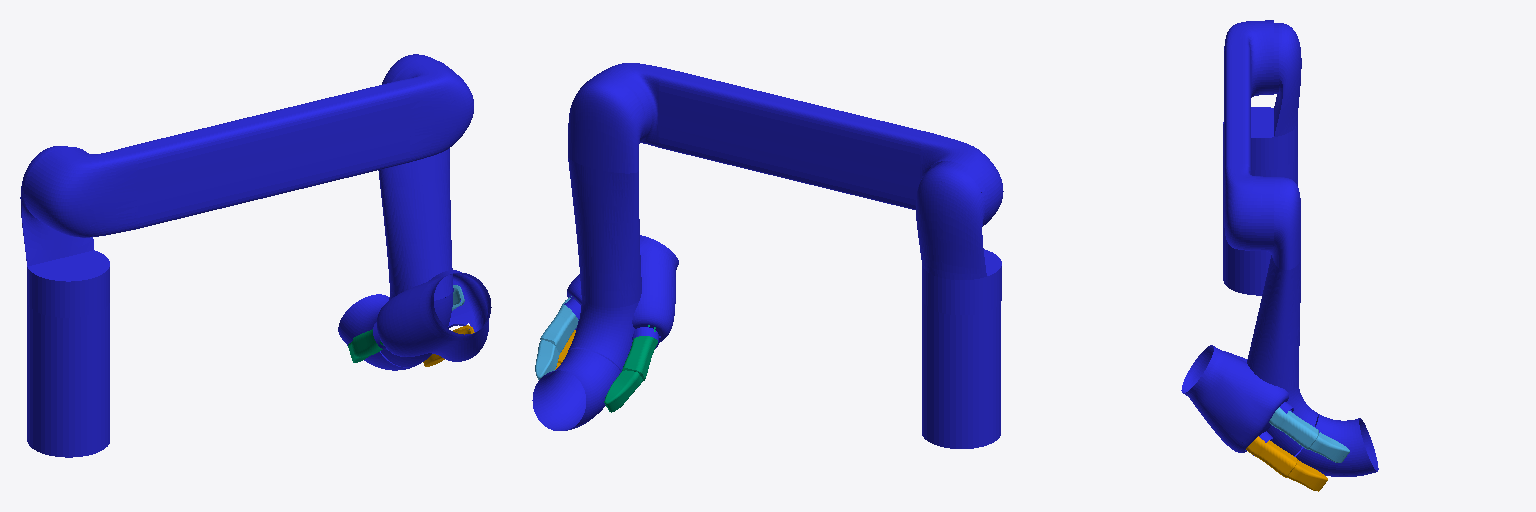
robot.urdf — jaco:
<?xml version="1.0" ?>
<!-- =================================================================================== -->
<!-- |    This document was autogenerated by xacro from jaco.urdf.xacro                | -->
<!-- |    EDITING THIS FILE BY HAND IS NOT RECOMMENDED                                 | -->
<!-- =================================================================================== -->
<robot name="jaco" xmlns:controller="http://playerstage.sourceforge.net/gazebo/xmlschema/#controller" xmlns:interface="http://playerstage.sourceforge.net/gazebo/xmlschema/#interface" xmlns:sensor="http://playerstage.sourceforge.net/gazebo/xmlschema/#sensor" xmlns:xacro="http://ros.org/wiki/xacro">
  <gazebo>
    <plugin filename="libgazebo_ros_controller_manager.so" name="gazebo_ros_controller_manager">
      <alwaysOn>true</alwaysOn>
      <updateRate>1000.0</updateRate>
      <robotParam>robot_description</robotParam>
    </plugin>
  </gazebo>
  <transmission name="jaco_1_trans" type="pr2_mechanism_model/SimpleTransmission">
    <actuator name="jaco_1_motor"/>
    <joint name="jaco_joint_1"/>
    <mechanicalReduction>1</mechanicalReduction>
    <motorTorqueConstant>1</motorTorqueConstant>
  </transmission>
  <transmission name="jaco_2_trans" type="pr2_mechanism_model/SimpleTransmission">
    <actuator name="jaco_2_motor"/>
    <joint name="jaco_joint_2"/>
    <mechanicalReduction>1</mechanicalReduction>
    <motorTorqueConstant>1</motorTorqueConstant>
  </transmission>
  <transmission name="jaco_3_trans" type="pr2_mechanism_model/SimpleTransmission">
    <actuator name="jaco_3_motor"/>
    <joint name="jaco_joint_3"/>
    <mechanicalReduction>1</mechanicalReduction>
    <motorTorqueConstant>1</motorTorqueConstant>
  </transmission>
  <transmission name="jaco_4_trans" type="pr2_mechanism_model/SimpleTransmission">
    <actuator name="jaco_4_motor"/>
    <joint name="jaco_joint_4"/>
    <mechanicalReduction>1</mechanicalReduction>
    <motorTorqueConstant>1</motorTorqueConstant>
  </transmission>
  <transmission name="jaco_5_trans" type="pr2_mechanism_model/SimpleTransmission">
    <actuator name="jaco_5_motor"/>
    <joint name="jaco_joint_5"/>
    <mechanicalReduction>1</mechanicalReduction>
    <motorTorqueConstant>1</motorTorqueConstant>
  </transmission>
  <transmission name="jaco_6_trans" type="pr2_mechanism_model/SimpleTransmission">
    <actuator name="jaco_6_motor"/>
    <joint name="jaco_joint_6"/>
    <mechanicalReduction>1</mechanicalReduction>
    <motorTorqueConstant>1</motorTorqueConstant>
  </transmission>
  <transmission name="jaco_finger_1_trans" type="pr2_mechanism_model/SimpleTransmission">
    <actuator name="jaco_finger_1_motor"/>
    <joint name="jaco_finger_joint_1"/>
    <mechanicalReduction>1</mechanicalReduction>
    <motorTorqueConstant>1</motorTorqueConstant>
  </transmission>
  <transmission name="jaco_finger_2_trans" type="pr2_mechanism_model/SimpleTransmission">
    <actuator name="jaco_finger_2_motor"/>
    <joint name="jaco_finger_joint_2"/>
    <mechanicalReduction>1</mechanicalReduction>
    <motorTorqueConstant>1</motorTorqueConstant>
  </transmission>
  <transmission name="jaco_finger_3_trans" type="pr2_mechanism_model/SimpleTransmission">
    <actuator name="jaco_finger_3_motor"/>
    <joint name="jaco_finger_joint_3"/>
    <mechanicalReduction>1</mechanicalReduction>
    <motorTorqueConstant>1</motorTorqueConstant>
  </transmission>
  <material name="JacoGrey">
    <color rgba="0.2 0.2 0.9 1.0"/>
  </material>
  <!--
	<link name="world"/>
	<joint name="base_block_joint" type="fixed">
		<parent link="world" />
		<origin xyz="0 0 1" rpy="0 0 0" />
		<child link="jaco_base_link" />
	</joint> 
 -->
  <!-- The base joint & link -->
  <link name="jaco_base_link">
    <inertial>
      <mass value="1"/>
      <!--origin xyz="0 0 -0.0525" rpy="0 0 0"/-->
      <origin rpy="0 0 0" xyz="0 0 0.0"/>
      <inertia ixx="1" ixy="0" ixz="0" iyy="1" iyz="0" izz="1"/>
    </inertial>
    <visual>
      <material name="JacoGrey"/>
      <!--origin xyz="0 0 -0.0525" rpy="0 0 0"/-->
      <geometry>
        <mesh filename="package://jaco_description/meshes/joint_1.stl" scale="0.001 0.001 0.001"/>
      </geometry>
    </visual>
    <collision>
      <!--origin xyz="0 0 -0.0525" rpy="0 0 0"/-->
      <geometry>
        <mesh filename="package://jaco_description/meshes/joint_1.stl" scale="0.001 0.001 0.001"/>
      </geometry>
    </collision>
  </link>
  <gazebo reference="jaco_base_link">
    <material>Gazebo/Yellow</material>
    <turnGravityOff>true</turnGravityOff>
  </gazebo>
  <!-- First revolute joint & link -->
  <joint name="jaco_joint_1" type="revolute">
    <!--origin xyz="0 0 0.2102" rpy="0 0 0"/-->
    <origin rpy="0 0 0" xyz="0 0 0.2725"/>
    <axis rpy="0 0 0" xyz="0 0 -1"/>
    <parent link="jaco_base_link"/>
    <child link="jaco_link_1"/>
    <limit effort="30" lower="-3.1415926535897931" upper="3.1415926535897931" velocity="5"/>
  </joint>
  <link name="jaco_link_1">
    <inertial>
      <mass value="1"/>
      <inertia ixx="1" ixy="0" ixz="0" iyy="1" iyz="0" izz="1"/>
      <origin/>
    </inertial>
    <visual>
      <material name="JacoGrey"/>
      <origin rpy="0 0 -1.570796327" xyz="0 0 -0.12"/>
      <geometry>
        <mesh filename="package://jaco_description/meshes/joint_2.stl" scale="0.001 0.001 0.001"/>
      </geometry>
    </visual>
    <collision>
      <origin rpy="0 0 -1.570796327" xyz="0 0 -0.12"/>
      <geometry>
        <mesh filename="package://jaco_description/meshes/joint_2.stl" scale="0.001 0.001 0.001"/>
      </geometry>
    </collision>
  </link>
  <gazebo reference="jaco_link_1">
    <material>Gazebo/Red</material>
    <turnGravityOff>true</turnGravityOff>
  </gazebo>
  <!-- Second revolute joint & link -->
  <joint name="jaco_joint_2" type="revolute">
    <origin rpy="-1.570796327 0 0" xyz="0 0 0"/>
    <axis xyz="0 0 1"/>
    <parent link="jaco_link_1"/>
    <child link="jaco_link_2"/>
    <limit effort="30" lower="-3.6651914291881" upper="0.57595865315813" velocity="5"/>
  </joint>
  <link name="jaco_link_2">
    <inertial>
      <mass value="1"/>
      <inertia ixx="1" ixy="0" ixz="0" iyy="1" iyz="0" izz="1"/>
      <origin/>
    </inertial>
    <visual>
      <material name="JacoGrey"/>
      <origin rpy="0 1.570796327 0" xyz="0 0 0.015"/>
      <geometry>
        <mesh filename="package://jaco_description/meshes/joint_3.stl" scale="0.001 0.001 0.001"/>
      </geometry>
    </visual>
    <collision>
      <origin rpy="0 1.570796327 0" xyz="0 0 0.015"/>
      <geometry>
        <mesh filename="package://jaco_description/meshes/joint_3.stl" scale="0.001 0.001 0.001"/>
      </geometry>
    </collision>
  </link>
  <gazebo reference="jaco_link_2">
    <material>Gazebo/Blue</material>
    <turnGravityOff>true</turnGravityOff>
  </gazebo>
  <!-- Third revolute joint & link -->
  <joint name="jaco_joint_3" type="revolute">
    <origin rpy="0 0 0" xyz="0.4100 0 0.012"/>
    <axis xyz="0 0 -1"/>
    <parent link="jaco_link_2"/>
    <child link="jaco_link_3"/>
    <limit effort="30" lower="-1.221730476396" upper="4.2935099599061" velocity="5"/>
  </joint>
  <link name="jaco_link_3">
    <inertial>
      <mass value="1"/>
      <inertia ixx="1" ixy="0" ixz="0" iyy="1" iyz="0" izz="1"/>
      <origin/>
    </inertial>
    <visual>
      <material name="JacoGrey"/>
      <origin rpy="0 1.570796327 1.570796327" xyz="0 0 -0.012"/>
      <geometry>
        <mesh filename="package://jaco_description/meshes/joint_4.stl" scale="1.000 1.000 1.000"/>
      </geometry>
    </visual>
    <collision>
      <origin rpy="0 1.570796327 1.570796327" xyz="0 0 -0.012"/>
      <geometry>
        <mesh filename="package://jaco_description/meshes/joint_4.stl" scale="1.000 1.000 1.000"/>
      </geometry>
    </collision>
  </link>
  <gazebo reference="jaco_link_3">
    <material>Gazebo/Red</material>
    <turnGravityOff>true</turnGravityOff>
  </gazebo>
  <!-- Fourth revolute joint & link -->
  <joint name="jaco_joint_4" type="revolute">
    <origin rpy="-1.570796327 0 0" xyz="0 0.24927682300748782 0 "/>
    <axis xyz="0 0 -1"/>
    <parent link="jaco_link_3"/>
    <child link="jaco_link_4"/>
    <limit effort="30" lower="-3.1415926535897931" upper="3.1415926535897931" velocity="5"/>
  </joint>
  <link name="jaco_link_4">
    <inertial>
      <mass value="1"/>
      <inertia ixx="1" ixy="0" ixz="0" iyy="1" iyz="0" izz="1"/>
      <origin/>
    </inertial>
    <visual>
      <material name="JacoGrey"/>
      <origin rpy="0 0 -1.570796327" xyz="0 0 -0.042276823"/>
      <geometry>
        <mesh filename="package://jaco_description/meshes/joint_5.stl" scale="0.001 0.001 0.001"/>
      </geometry>
    </visual>
    <collision>
      <origin rpy="0 0 -1.570796327" xyz="0 0 -0.042276823"/>
      <geometry>
        <mesh filename="package://jaco_description/meshes/joint_5.stl" scale="0.001 0.001 0.001"/>
      </geometry>
    </collision>
  </link>
  <gazebo reference="jaco_link_4">
    <material>Gazebo/Blue</material>
    <turnGravityOff>true</turnGravityOff>
  </gazebo>
  <!-- Fifth revolute joint & link -->
  <joint name="jaco_joint_5" type="revolute">
    <origin rpy="0.959931089 0 0" xyz="0 -0.069262292 0.048497979"/>
    <axis xyz="0 0 -1"/>
    <parent link="jaco_link_4"/>
    <child link="jaco_link_5"/>
    <limit effort="30" lower="-3.1415926535897931" upper="3.1415926535897931" velocity="5"/>
  </joint>
  <link name="jaco_link_5">
    <inertial>
      <mass value="1.0"/>
      <inertia ixx="1" ixy="0" ixz="0" iyy="1" iyz="0" izz="1"/>
      <origin/>
    </inertial>
    <visual>
      <material name="JacoGrey"/>
      <origin rpy="0 -0.959931089 1.570796327" xyz="0 0 -0.042276823"/>
      <geometry>
        <mesh filename="package://jaco_description/meshes/joint_6.stl" scale="0.001 0.001 0.001"/>
      </geometry>
    </visual>
    <collision>
      <origin rpy="0 -0.959931089 1.570796327" xyz="0 0 -0.042276823"/>
      <geometry>
        <mesh filename="package://jaco_description/meshes/joint_6.stl" scale="0.001 0.001 0.001"/>
      </geometry>
    </collision>
  </link>
  <gazebo reference="jaco_link_5">
    <material>Gazebo/Red</material>
    <turnGravityOff>true</turnGravityOff>
  </gazebo>
  <!-- Sixth revolute joint & link -->
  <joint name="jaco_joint_6" type="revolute">
    <!--origin xyz="0 -0.186174274 0.13036063" rpy="0.959931089 0 0"/-->
    <origin rpy="-0.959931089 0 3.1415926535897931" xyz="0 -0.186174274 0.13036063"/>
    <origin rpy="0 0 -3.14" xyz="0 0 0"/>
    <axis xyz="0 0 -1"/>
    <parent link="jaco_link_5"/>
    <child link="jaco_link_6"/>
    <limit effort="30" lower="-3.5415926535897931" upper="3.5415926535897931" velocity="5"/>
  </joint>
  <link name="jaco_link_6">
    <inertial>
      <mass value="0.3"/>
      <inertia ixx="1" ixy="0" ixz="0" iyy="1" iyz="0" izz="1"/>
      <origin/>
    </inertial>
    <visual>
      <material name="JacoGrey"/>
      <!--origin xyz="0 0 -0.1850" rpy="0 0 -3.1415926535897931"/-->
      <origin rpy="0 0 0" xyz="0 0 -0.1850"/>
      <geometry>
        <mesh filename="package://jaco_description/meshes/hand_with_noFinger.stl" scale="0.001 0.001 0.001"/>
      </geometry>
    </visual>
    <collision>
      <!--origin xyz="0 0 -0.1850" rpy="0 0 -3.1415926535897931"/-->
      <origin rpy="0 0 0" xyz="0 0 -0.1850"/>
      <geometry>
        <mesh filename="package://jaco_description/meshes/hand_with_noFinger.stl" scale="0.001 0.001 0.001"/>
      </geometry>
    </collision>
  </link>
  <gazebo reference="jaco_link_6">
    <material>Gazebo/Blue</material>
    <turnGravityOff>true</turnGravityOff>
  </gazebo>
  <joint name="jaco_gripper_tool_frame_joint" type="fixed">
    <parent link="jaco_link_6"/>
    <child link="jaco_gripper_tool_frame"/>
    <origin rpy="-0.2 -1.570796327 1.570796327" xyz="0 0 -0.08"/>
  </joint>
  <link name="jaco_gripper_tool_frame">
    <!-- This is the coordinate system of the tool (this is the position
         used in IK etc., relative to the base frame); there is no actual
         arm part attached to this link -->
  </link>
  <!-- first finger joint & link -->
  <joint name="jaco_finger_joint_1" type="revolute">
    <!--origin xyz="-0.036 -0.021 -0.07" rpy="0 0 0"/-->
    <!-- changed becuase it look funny in simulation-->
    <origin rpy="0 0 0" xyz="-0.036 -0.021 -0.09"/>
    <axis xyz="0 1 0"/>
    <parent link="jaco_link_6"/>
    <child link="jaco_finger_link_1"/>
    <limit effort="30" lower="-3.1415926535897931" upper="3.1415926535897931" velocity="5"/>
  </joint>
  <link name="jaco_finger_link_1">
    <inertial>
      <mass value="0.05"/>
      <inertia ixx="1" ixy="0" ixz="0" iyy="1" iyz="0" izz="1"/>
      <origin/>
    </inertial>
    <visual>
      <origin rpy="0 0 0" xyz="0 0 0"/>
      <geometry>
        <mesh filename="package://jaco_description/meshes/finger.stl" scale="1 1 1"/>
      </geometry>
    </visual>
    <collision>
      <origin rpy="0 0 0" xyz="0 0 0"/>
      <geometry>
        <mesh filename="package://jaco_description/meshes/finger.stl" scale="1 1 1"/>
      </geometry>
    </collision>
  </link>
  <gazebo reference="jaco_finger_link_1">
    <material>Gazebo/Blue</material>
    <turnGravityOff>true</turnGravityOff>
  </gazebo>
  <!-- second finger joint & link -->
  <joint name="jaco_finger_joint_2" type="revolute">
    <!--origin xyz="-0.036 0.021 -0.07" rpy="0 0 0"/-->
    <origin rpy="0 0 0" xyz="-0.036 0.021 -0.09"/>
    <axis xyz="0 1 0"/>
    <parent link="jaco_link_6"/>
    <child link="jaco_finger_link_2"/>
    <limit effort="30" lower="-3.1415926535897931" upper="3.1415926535897931" velocity="5"/>
  </joint>
  <link name="jaco_finger_link_2">
    <inertial>
      <mass value="0.05"/>
      <inertia ixx="1" ixy="0" ixz="0" iyy="1" iyz="0" izz="1"/>
      <origin/>
    </inertial>
    <visual>
      <origin rpy="0 0 0" xyz="0 0 0"/>
      <geometry>
        <mesh filename="package://jaco_description/meshes/finger.stl" scale="1 1 1"/>
      </geometry>
    </visual>
    <collision>
      <origin rpy="0 0 0" xyz="0 0 0"/>
      <geometry>
        <mesh filename="package://jaco_description/meshes/finger.stl" scale="1 1 1"/>
      </geometry>
    </collision>
  </link>
  <gazebo reference="jaco_finger_link_2">
    <material>Gazebo/Blue</material>
    <turnGravityOff>true</turnGravityOff>
  </gazebo>
  <!-- third finger joint & link -->
  <joint name="jaco_finger_joint_3" type="revolute">
    <!--origin xyz="0.036 -0 -0.07" rpy="0 0 3.14"/-->
    <origin rpy="0 0 3.14" xyz="0.036 -0 -0.09"/>
    <axis xyz="0 1 0"/>
    <parent link="jaco_link_6"/>
    <child link="jaco_finger_link_3"/>
    <limit effort="30" lower="-3.1415926535897931" upper="3.1415926535897931" velocity="5"/>
  </joint>
  <link name="jaco_finger_link_3">
    <inertial>
      <mass value="0.05"/>
      <inertia ixx="1" ixy="0" ixz="0" iyy="1" iyz="0" izz="1"/>
      <origin/>
    </inertial>
    <visual>
      <origin rpy="0 0 0" xyz="0 0 0"/>
      <geometry>
        <mesh filename="package://jaco_description/meshes/finger.stl" scale="1 1 1"/>
      </geometry>
    </visual>
    <collision>
      <origin rpy="0 0 0" xyz="0 0 0"/>
      <geometry>
        <mesh filename="package://jaco_description/meshes/finger.stl" scale="1 1 1"/>
      </geometry>
    </collision>
  </link>
  <gazebo reference="jaco_finger_link_3">
    <material>Gazebo/Blue</material>
    <turnGravityOff>true</turnGravityOff>
  </gazebo>
</robot>

--- Facts derived from the render (not from the file) ---
3 views of the same robot in one strip: view 1: azimuth 30°, elevation 25°; view 2: azimuth 150°, elevation 25°; view 3: azimuth 270°, elevation 25° (orthographic).
Model jaco with 11 links and 10 joints (9 revolute, 1 fixed), rooted at jaco_base_link, posed every joint at zero.
Visible links, largest first — view 1: jaco_link_2, jaco_base_link, jaco_link_3, jaco_link_1, jaco_link_6, jaco_link_5, jaco_link_4, jaco_finger_link_3; view 2: jaco_link_2, jaco_link_3, jaco_base_link, jaco_link_1, jaco_link_5, jaco_link_6, jaco_link_4, jaco_finger_link_3, jaco_finger_link_2; view 3: jaco_link_2, jaco_link_3, jaco_link_6, jaco_link_1, jaco_link_5, jaco_base_link, jaco_finger_link_2, jaco_finger_link_1, jaco_link_4.
Link boxes in pixels (left/top/right/bottom): jaco_link_2: left=26, top=59, right=473, bottom=237; jaco_base_link: left=27, top=303, right=109, bottom=457; jaco_link_3: left=378, top=54, right=452, bottom=300; jaco_link_1: left=20, top=146, right=109, bottom=317; jaco_link_6: left=373, top=270, right=491, bottom=361; jaco_link_5: left=338, top=294, right=414, bottom=370; jaco_link_4: left=381, top=288, right=453, bottom=366; jaco_finger_link_3: left=348, top=329, right=383, bottom=362; jaco_link_2: left=580, top=63, right=1003, bottom=226; jaco_link_3: left=568, top=73, right=651, bottom=307; jaco_base_link: left=922, top=301, right=1000, bottom=448; jaco_link_1: left=916, top=161, right=1001, bottom=314; jaco_link_5: left=532, top=349, right=620, bottom=430; jaco_link_6: left=564, top=235, right=678, bottom=348; jaco_link_4: left=568, top=298, right=638, bottom=371; jaco_finger_link_3: left=604, top=325, right=657, bottom=412; jaco_finger_link_2: left=535, top=296, right=578, bottom=379; jaco_link_2: left=1224, top=20, right=1273, bottom=250; jaco_link_3: left=1247, top=177, right=1300, bottom=391; jaco_link_6: left=1181, top=345, right=1293, bottom=455; jaco_link_1: left=1223, top=23, right=1301, bottom=169; jaco_link_5: left=1294, top=413, right=1378, bottom=476; jaco_base_link: left=1223, top=156, right=1297, bottom=295; jaco_finger_link_2: left=1269, top=407, right=1349, bottom=462; jaco_finger_link_1: left=1246, top=436, right=1327, bottom=491; jaco_link_4: left=1267, top=385, right=1317, bottom=455.
Size in the robot's own frame: 0.51 by 0.2187 by 0.3639 metres.
Meshes: 8 distinct files referenced, 10 mesh visuals loaded (8 binary STL).
